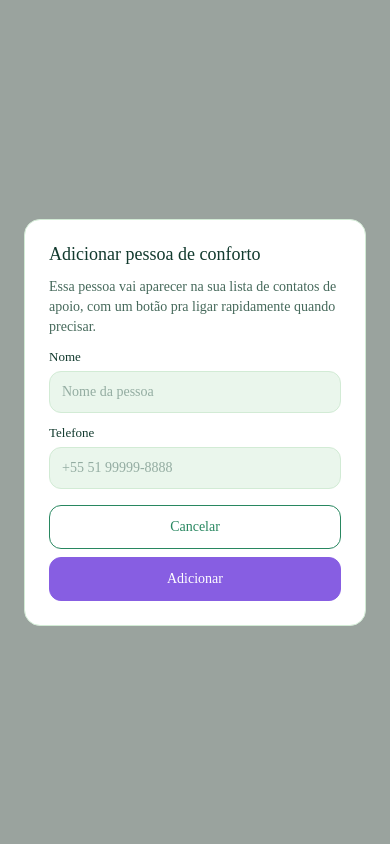
it: AddContactModal › só habilita "Adicionar" com nome e telefone preenchidos
Expected: the text "Adicionar pessoa de conforto" is shown, x1=49 y1=244 x2=260 y2=264
Expected: the button "Adicionar" is disabled, x1=49 y1=556 x2=341 y2=600
Type "Ana" into the field with placeholder "Nome da pessoa" at (195, 392), box x1=49 y1=370 x2=341 y2=412
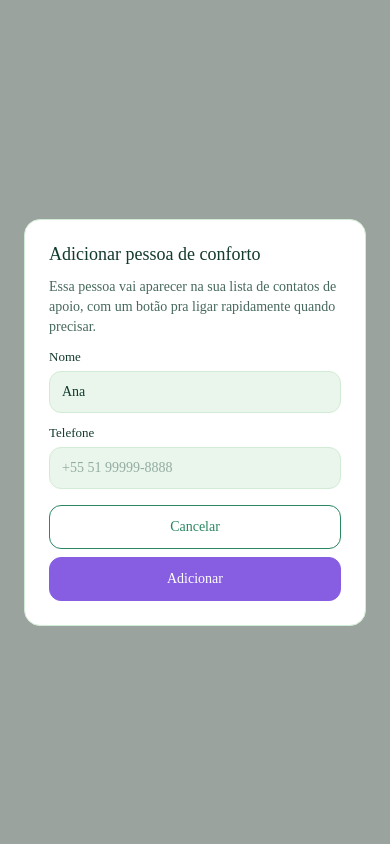
Expected: the button "Adicionar" is disabled, x1=49 y1=556 x2=341 y2=600
Type "51999998888" into the field with placeholder "+55 51 99999-8888" at (195, 468), box x1=49 y1=446 x2=341 y2=488
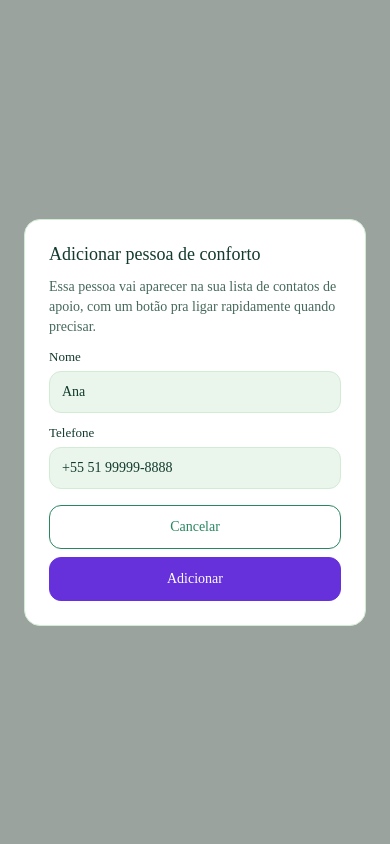
Result: the button "Adicionar" is enabled at x1=49 y1=556 x2=341 y2=600
